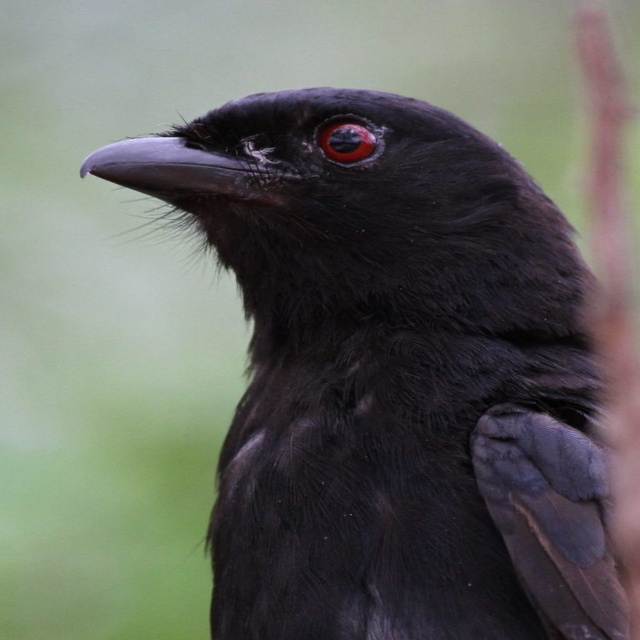Raven: (80, 91, 639, 639)
